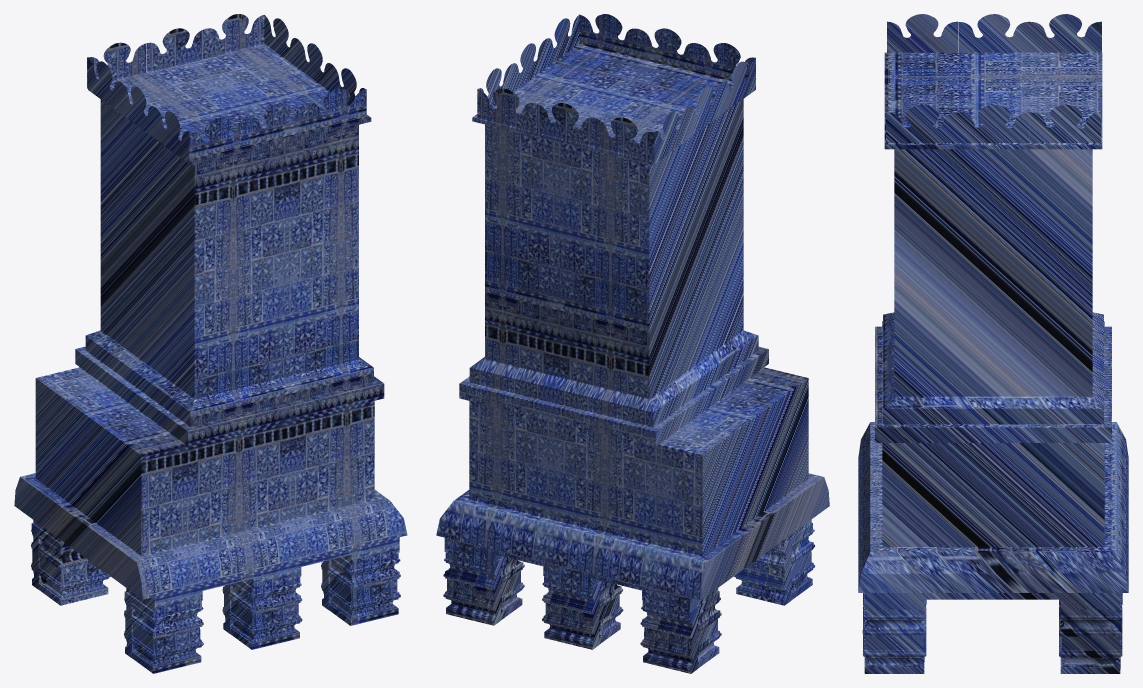
File: fgfg.obj
3 views of the same model, side by side, from view 1: azimuth 30°, elevation 25°; view 2: azimuth 150°, elevation 25°; view 3: azimuth 270°, elevation 25° (orthographic). The views are drawn at different scales.
Parts seen in each view (by area): view 1: Box001_1_1, 13_13, 33_33, 24_24, 9_9, 41_41, 42_42, 46_46, 37_37, 43_43, 10_10, 36_36 (+12 smaller); view 2: Box001_1_1, 14_14, 26_26, 34_34, 11_11, 37_37, 44_44, 42_42, 46_46, 43_43, 36_36, 10_10 (+12 smaller); view 3: Box001_1_1, 32_32, 27_27, 47_47, 48_48, 45_45, 39_39, 38_38, 40_40, 3_3, 8_8, 2_2.
Boxes of the visible parts, x1,y1,x2,y2 form: Box001_1_1: (14,43,407,599); 13_13: (152,600,203,673); 33_33: (350,553,400,625); 24_24: (251,577,302,649); 9_9: (60,543,110,605); 41_41: (189,117,248,163); 42_42: (205,14,264,57); 46_46: (248,103,307,146); 37_37: (146,28,205,72); 43_43: (307,88,366,132); 10_10: (37,528,61,605); 36_36: (130,596,154,673); Box001_1_1: (436,43,829,599); 14_14: (542,576,599,649); 26_26: (443,552,500,625); 34_34: (640,600,697,673); 11_11: (734,539,791,605); 37_37: (536,103,595,146); 44_44: (595,117,654,163); 42_42: (477,88,535,132); 46_46: (638,28,696,72); 43_43: (579,14,637,57); 36_36: (790,523,814,600); 10_10: (697,591,721,668); Box001_1_1: (858,52,1128,592); 32_32: (863,609,926,673); 27_27: (1059,609,1122,673); 47_47: (958,14,1030,52); 48_48: (887,14,958,52); 45_45: (1030,14,1101,52); 39_39: (957,104,1029,142); 38_38: (886,104,957,142); 40_40: (1029,104,1100,142); 3_3: (864,593,924,609); 8_8: (1060,593,1120,609); 2_2: (924,593,1060,599).
Size of the model in its own units: 49.2 by 94.1 by 41.3.
